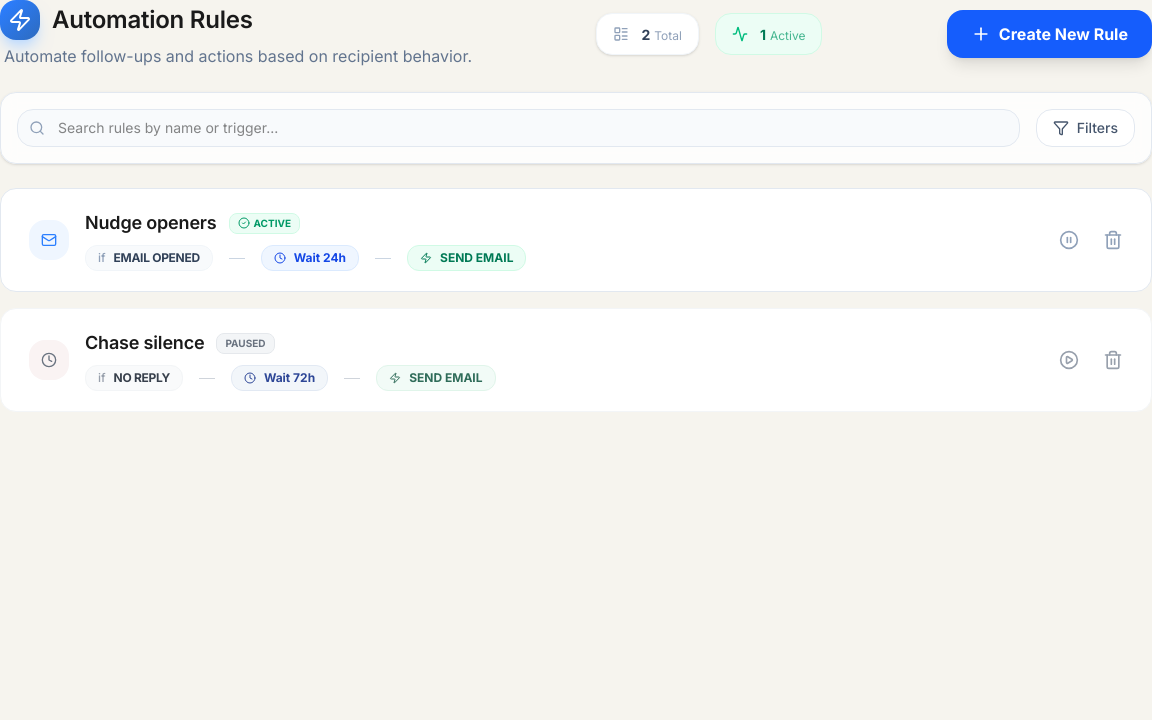
AutomationRules page › deletes a rule only after the confirm dialog (F5: no window.confirm)
Check: the heading "Nudge openers" is shown, box [85,209,216,237]
Click the button named "Delete Rule" in the row of "24" at (1113, 240), box [1095,222,1131,258]
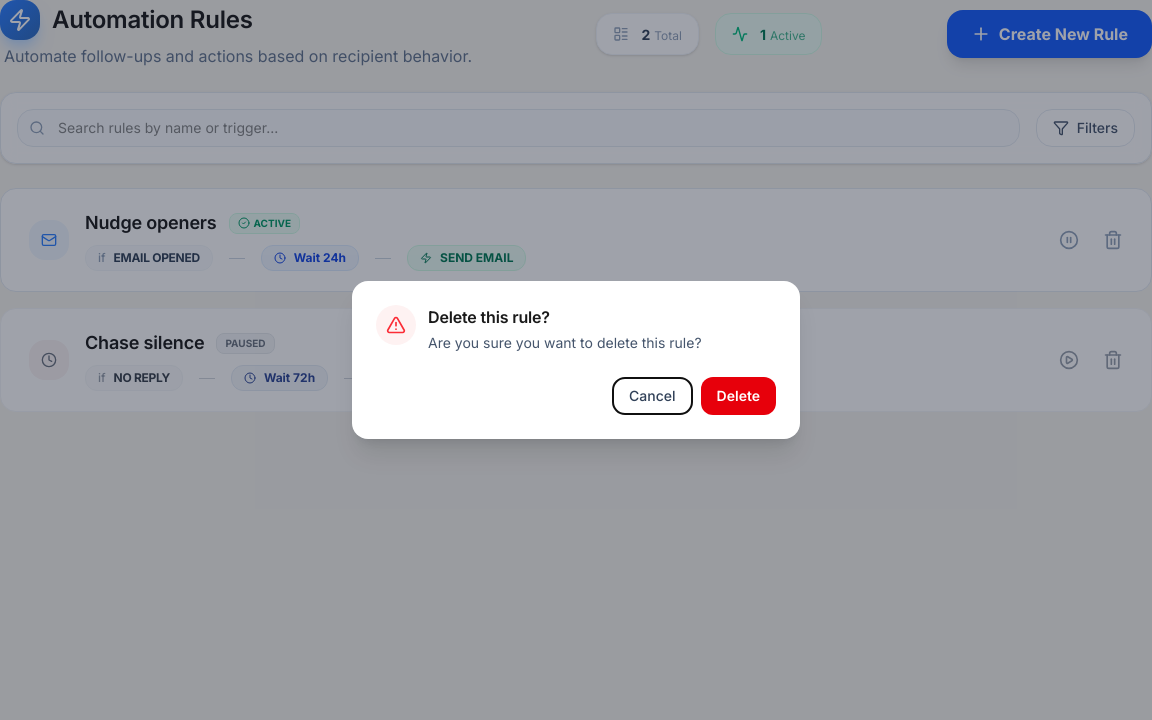
Click the button "Cancel" at (652, 396), box [612,377,693,415]
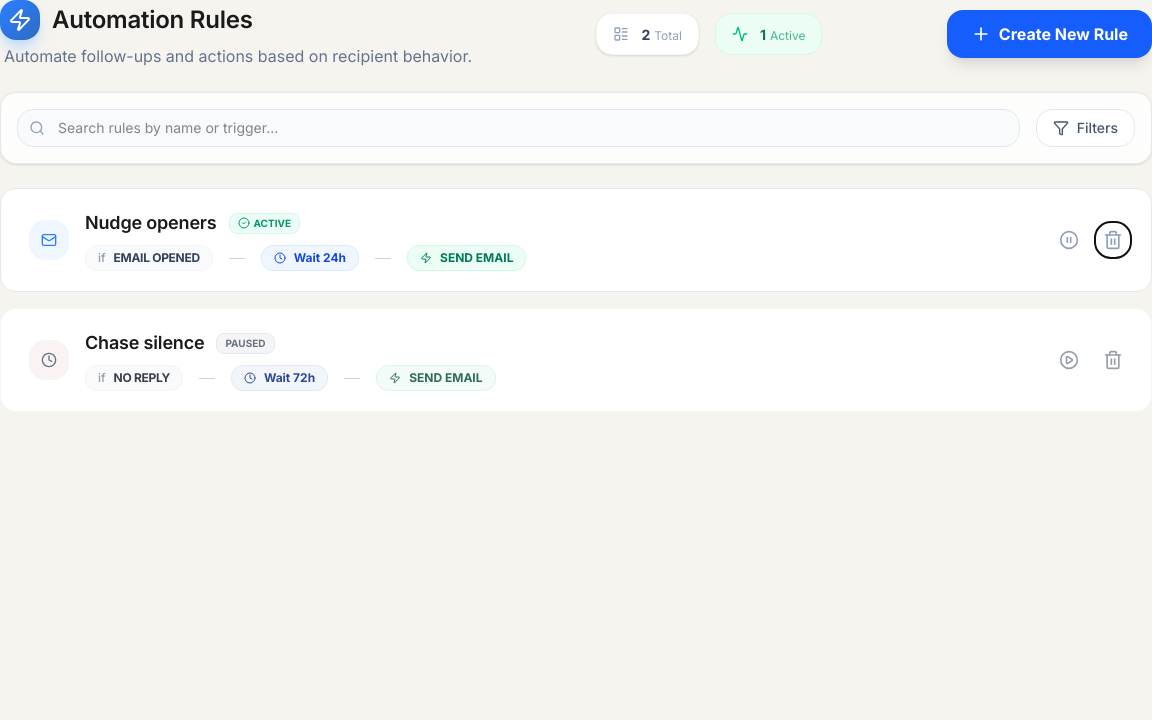
Click the button titled "Delete Rule" in the row of "24" at (1113, 240), box [1095,222,1131,258]
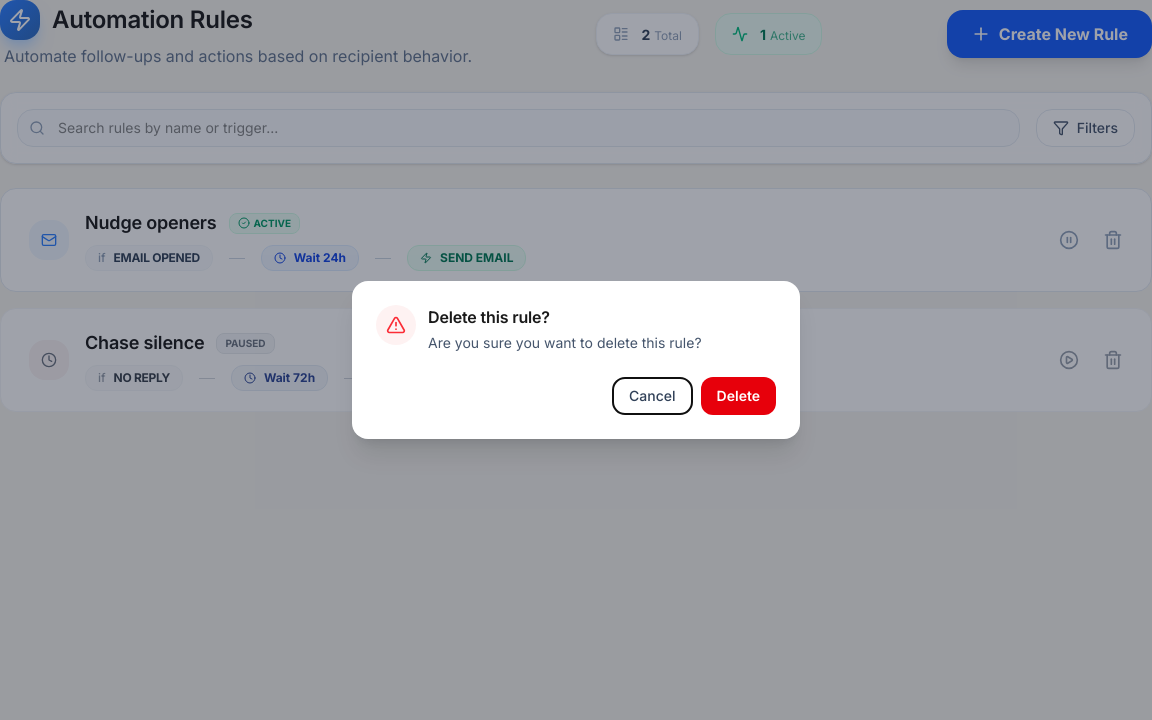
Click the button "Delete" at (738, 396), box [701,377,776,415]
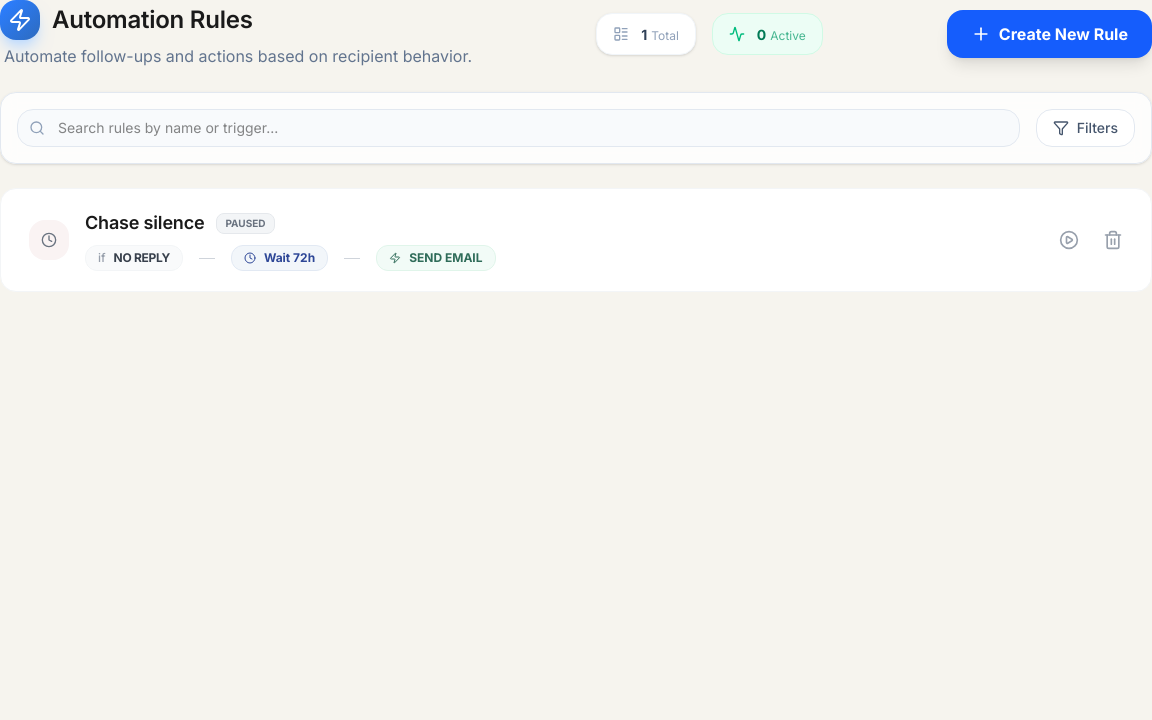
Check: the heading "Nudge openers" is gone
